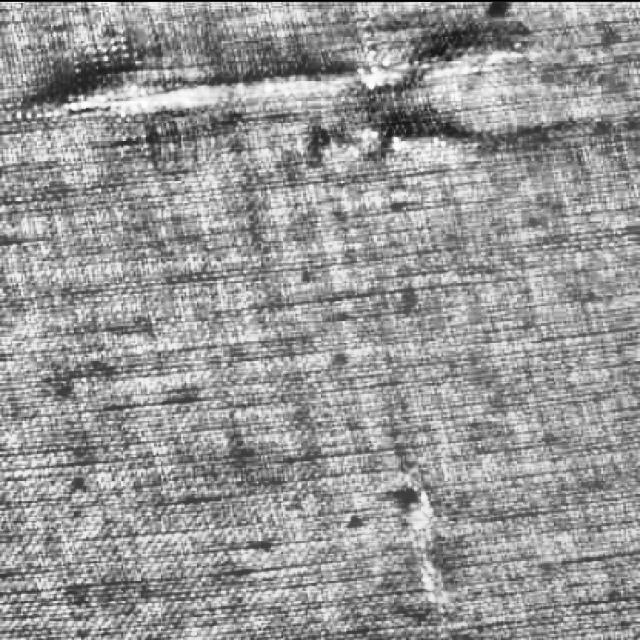thread_error: (10, 22, 540, 133), (386, 458, 477, 639), (297, 110, 504, 174)
